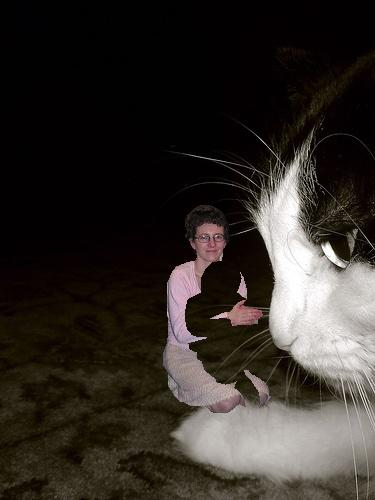tampered: (164, 206, 271, 413)
